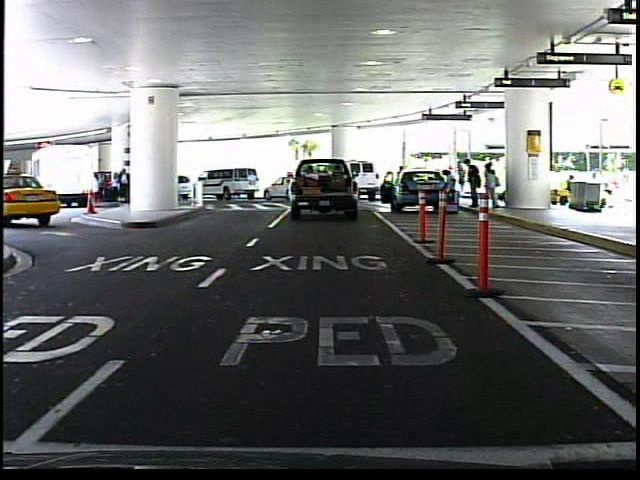person: (442, 166, 460, 211), (395, 163, 411, 204)
